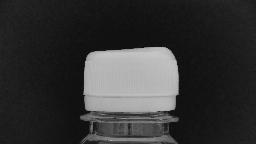Broken Cap: (78, 44, 182, 124)
